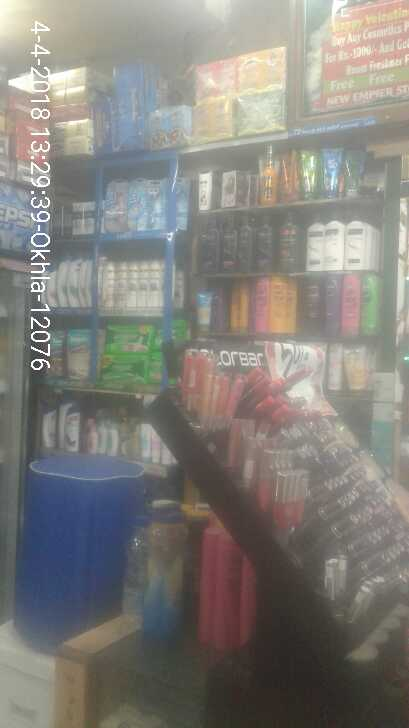venus: (160, 177, 190, 229), (107, 177, 126, 232), (141, 177, 160, 229), (126, 178, 141, 232)
